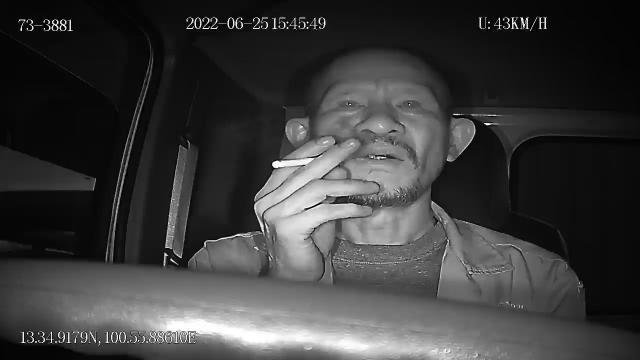SafeDriving: (389, 89, 430, 118)
Smoking: (272, 157, 318, 169)
